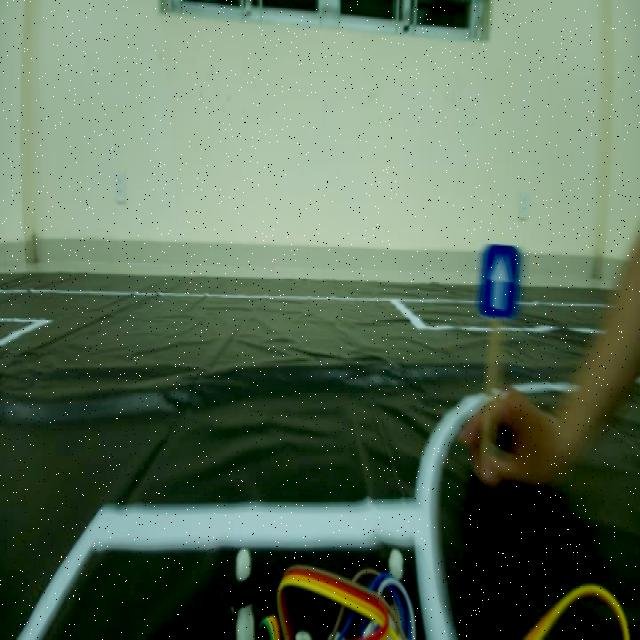onewayroad: (470, 239, 526, 325)
